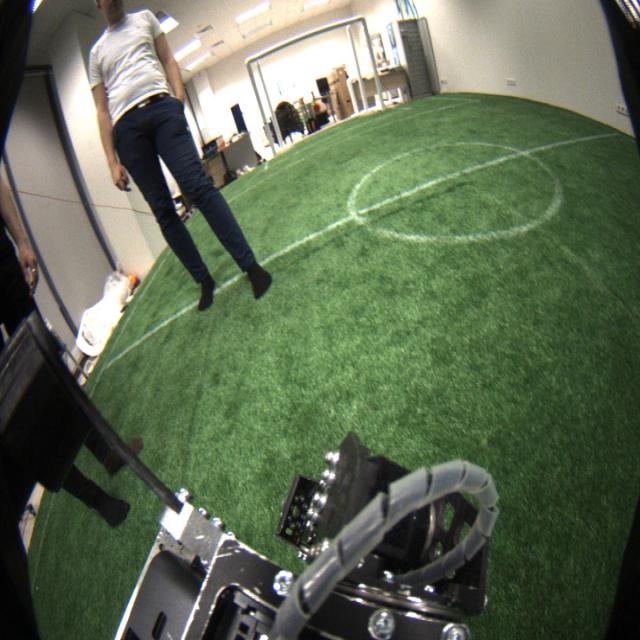goalpost: (244, 59, 278, 156), (359, 15, 388, 112)
